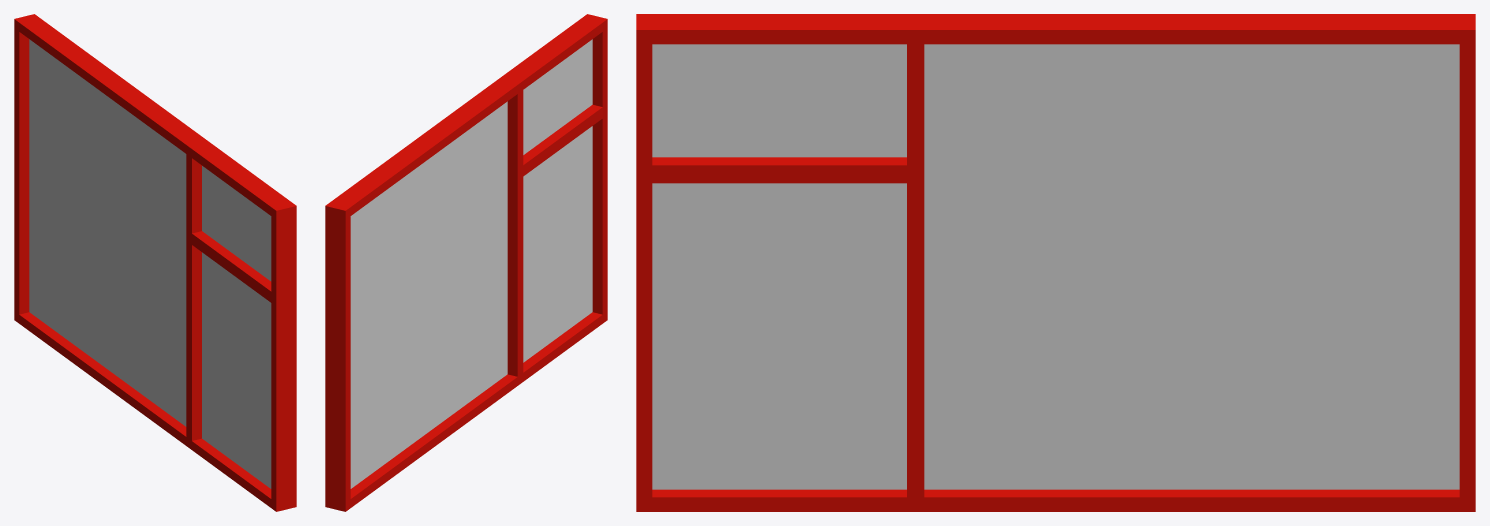
Rendered from Window.fbx.
3 renders of one model, left to right at view 1: azimuth 30°, elevation 25°; view 2: azimuth 150°, elevation 25°; view 3: azimuth 270°, elevation 25°, orthographic. The views are drawn at different scales.
Visible parts, largest first — view 1: Window; view 2: Window; view 3: Window.
Part boxes in pixels (x1=…): Window: x1=14, y1=14, x2=296, y2=511; Window: x1=325, y1=14, x2=607, y2=511; Window: x1=636, y1=14, x2=1475, y2=511.
Bounding box in the file's own units: 8.96 × 127 × 200.
